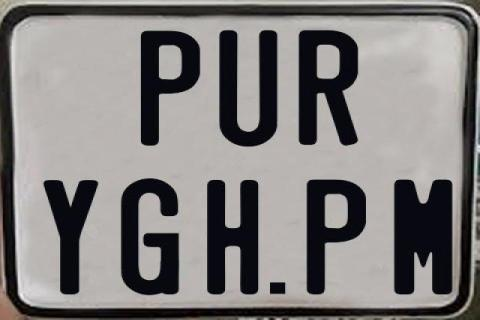G: (119, 177, 177, 295)
H: (206, 179, 258, 295)
M: (393, 178, 455, 296)
P: (304, 178, 369, 294), (138, 29, 201, 147)
R: (299, 30, 361, 148)
U: (218, 30, 279, 150)
Y: (42, 180, 98, 296)
